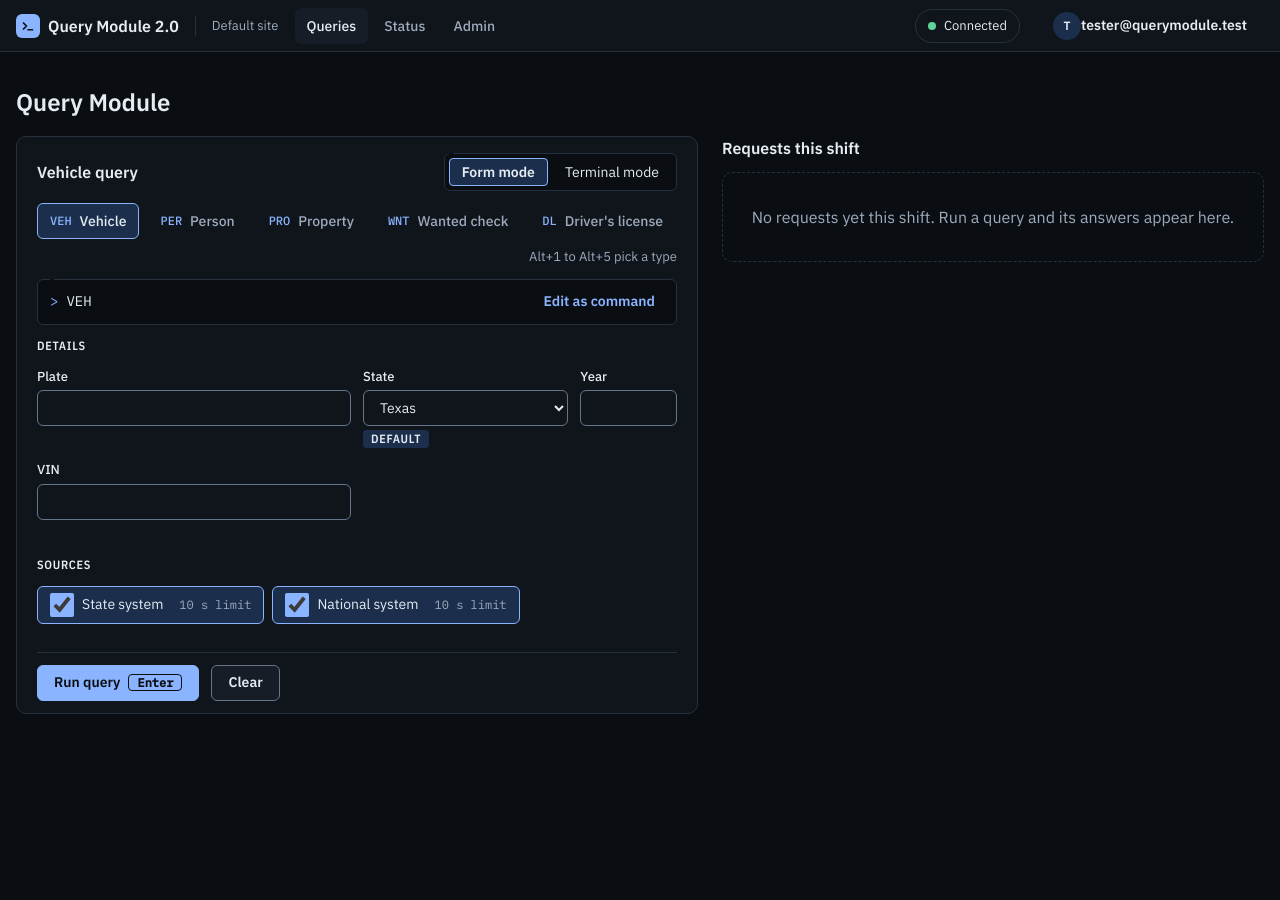
Test: ADR-0011 admin shell (Task 30, BR-001, FR-060) › an admin opens the console from the header; both sections are listed
Check: the header is shown, box [0,0,1279,52]
Click the link "Admin" at (474, 26), box [453,16,495,34]
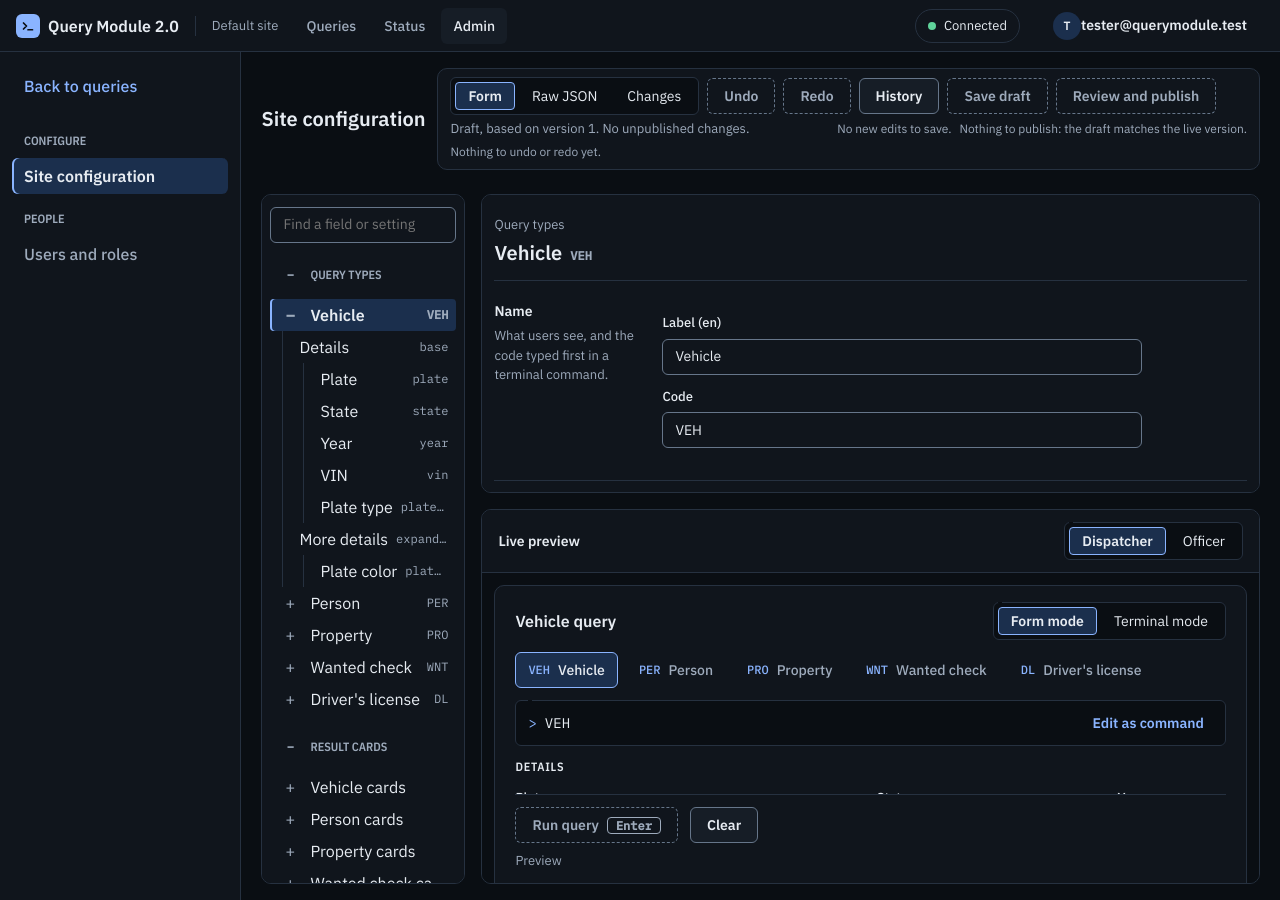
Check: the heading "Site configuration" is shown, box [261,104,425,134]
